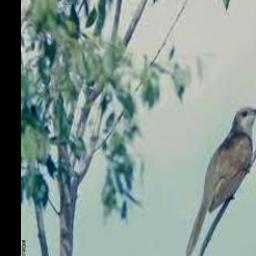Cuckoo: (186, 107, 256, 256)
